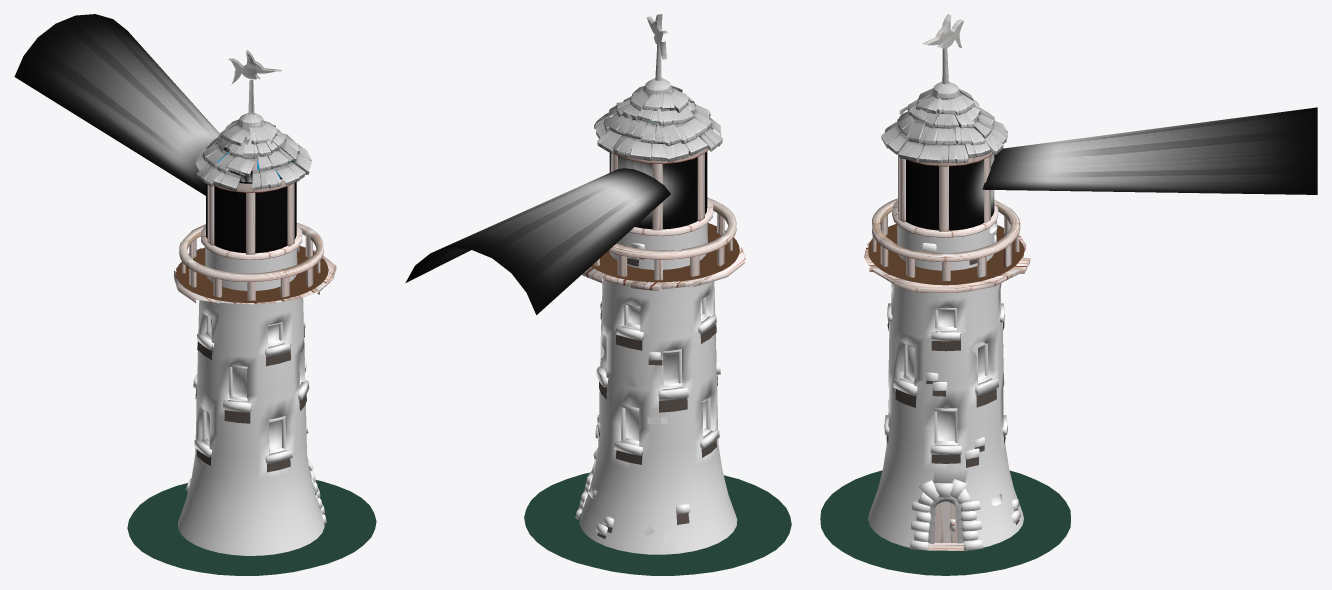
File: Lighthouse02.fbx
3 views of the same model, side by side, from view 1: azimuth 30°, elevation 25°; view 2: azimuth 150°, elevation 25°; view 3: azimuth 270°, elevation 25° (orthographic). The views are drawn at different scales.
Parts seen in each view (by area): view 1: Body, vfx_mesh_lighthouse_light_00, LighthouseShadow01, Balcony, Roof, LighthouseShadow02, LighthouseShadow03, Sign; view 2: Body, vfx_mesh_lighthouse_light_00, LighthouseShadow01, Roof, Balcony, LighthouseShadow02, LighthouseShadow03, Damage, Sign; view 3: Body, vfx_mesh_lighthouse_light_00, LighthouseShadow01, Balcony, Roof, LighthouseShadow02, LighthouseShadow03, Door, Sign.
Part boxes in pixels (x1,y1,x2,y2): Body: (178,246,326,555); vfx_mesh_lighthouse_light_00: (14,14,296,253); LighthouseShadow01: (127,480,376,575); Balcony: (174,145,336,306); Roof: (195,112,311,191); LighthouseShadow02: (176,246,328,302); LighthouseShadow03: (195,328,306,472); Sign: (228,50,281,114); Body: (575,223,737,554); vfx_mesh_lighthouse_light_00: (405,119,707,314); LighthouseShadow01: (524,472,791,575); Roof: (594,77,722,162); Balcony: (582,110,745,291); LighthouseShadow02: (590,223,739,282); LighthouseShadow03: (597,258,717,538); Damage: (579,324,692,554); Sign: (646,14,667,80); Body: (868,225,1023,550); vfx_mesh_lighthouse_light_00: (898,107,1317,230); LighthouseShadow01: (820,470,1070,575); Balcony: (864,151,1030,292); Roof: (881,81,1007,163); LighthouseShadow02: (868,224,1024,285); LighthouseShadow03: (886,259,1019,524); Door: (928,496,963,543); Sign: (922,14,963,84).
Size of what is drawn, in the model's own units: 7.26 by 15.02 by 13.4.
